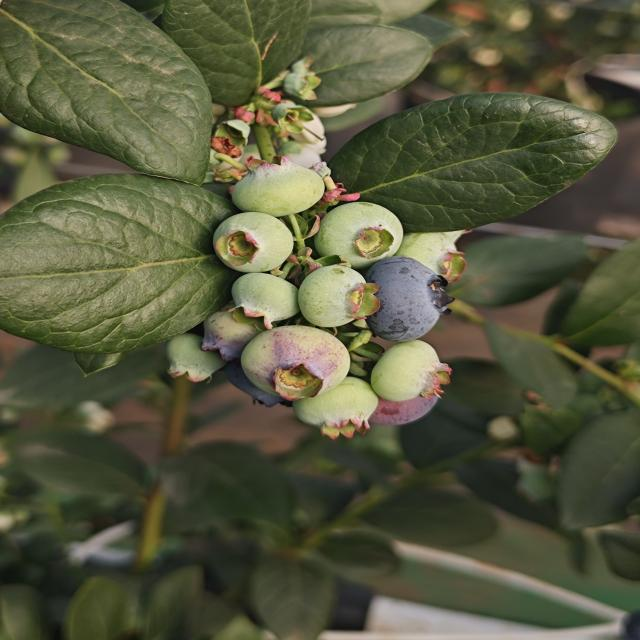ripe: (361, 255, 456, 344), (225, 361, 281, 408)
